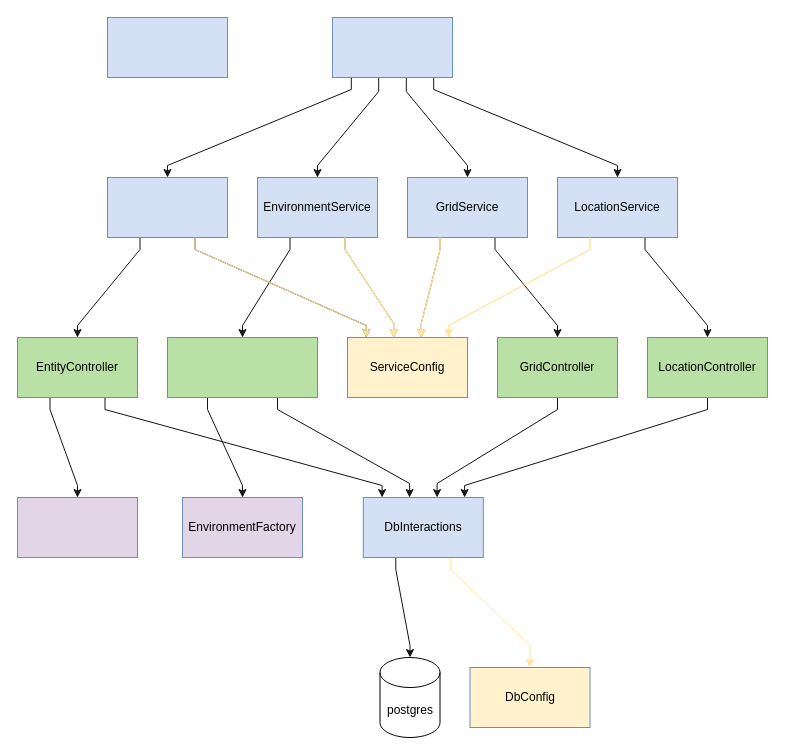
Some shapes in this 785 by 755 pixel diagram are drawn without their labels. Here are the shapes that lost their labels. From the top down, the box of each, then its label:
(106, 16, 228, 78): VironApplication
(332, 16, 452, 78): DebugController
(106, 176, 228, 238): EntityService
(166, 336, 318, 398): EnvironmentController
(16, 496, 138, 558): EntityFactory
